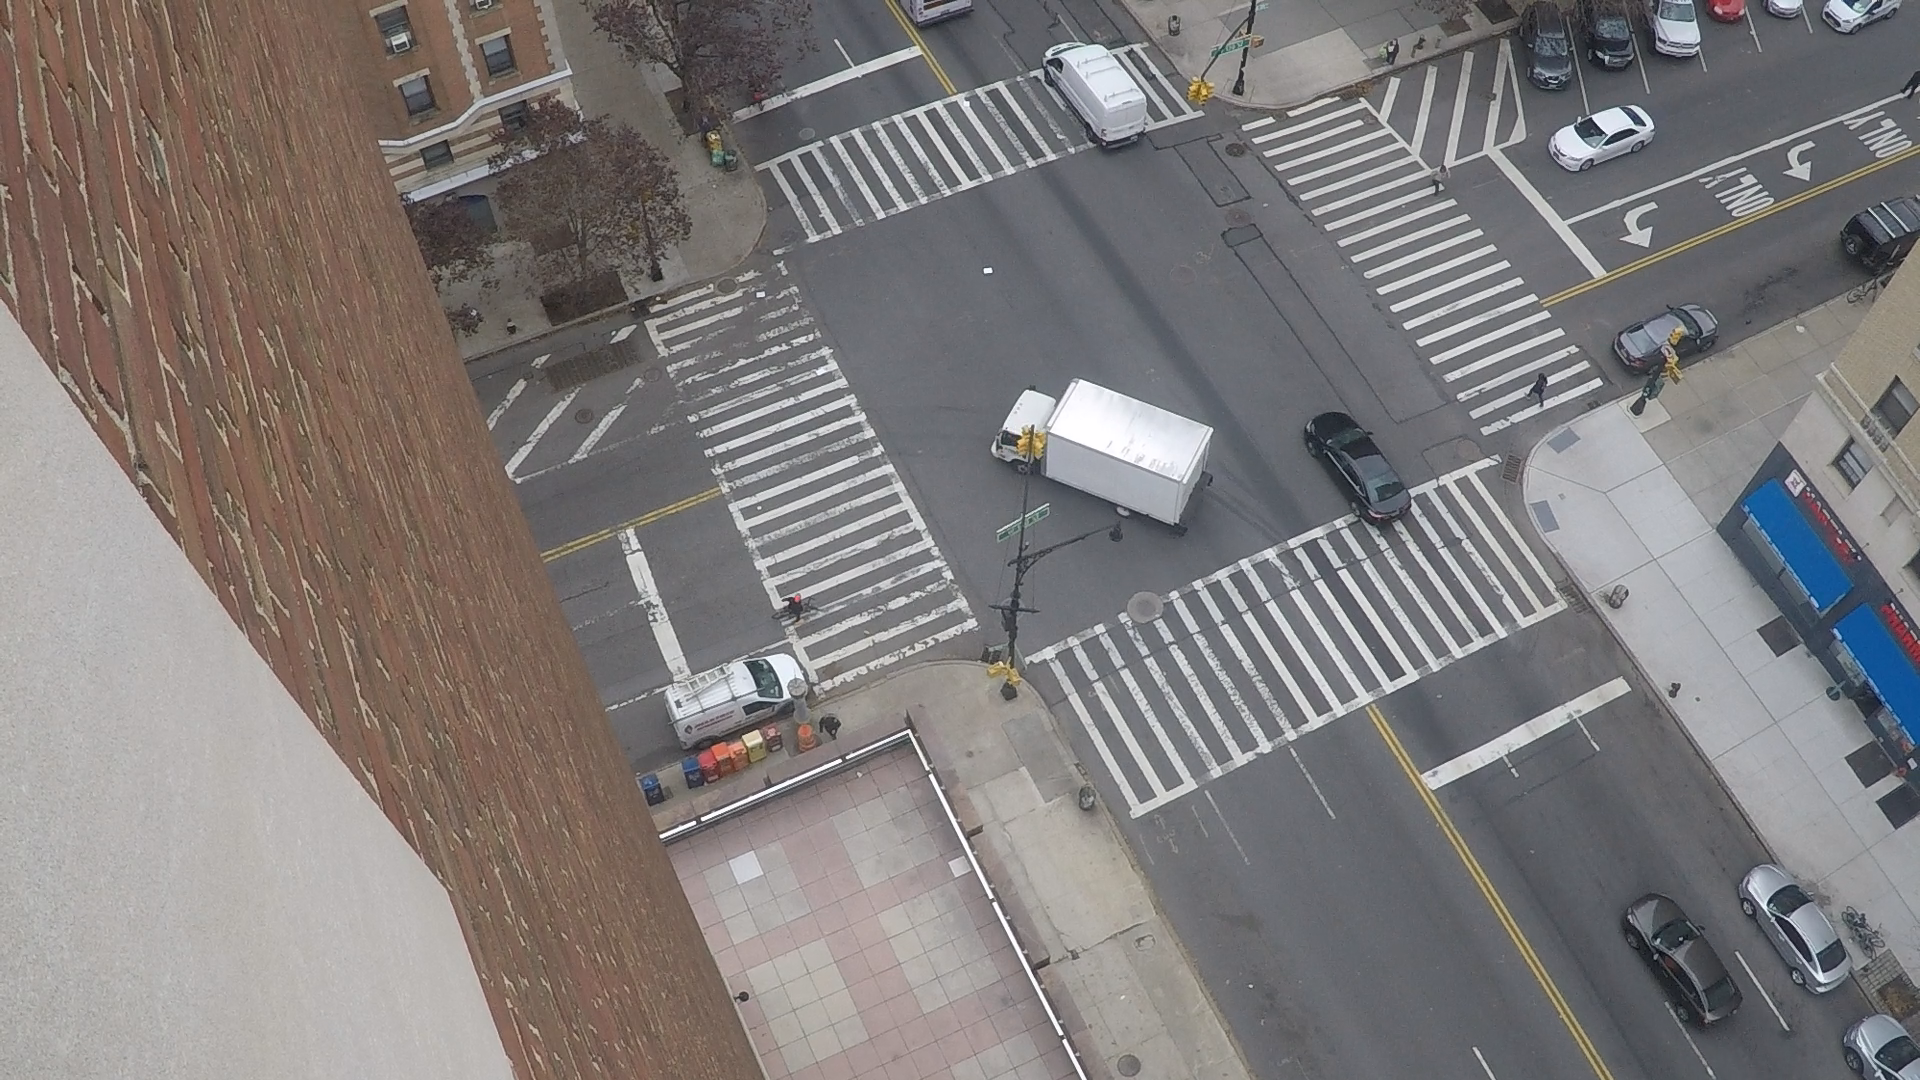Bus: (895, 0, 920, 29)
Car: (1635, 0, 1636, 18), (1760, 0, 1762, 8)
Truck: (1009, 463, 1015, 472)
